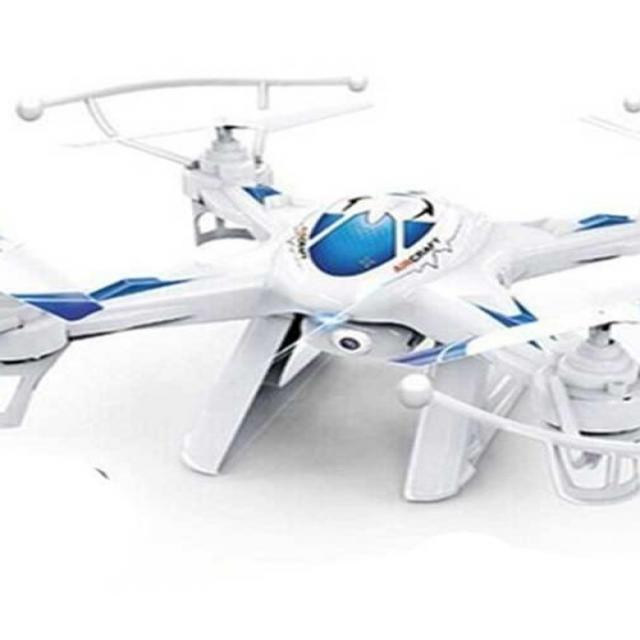drone: (0, 48, 640, 528)
